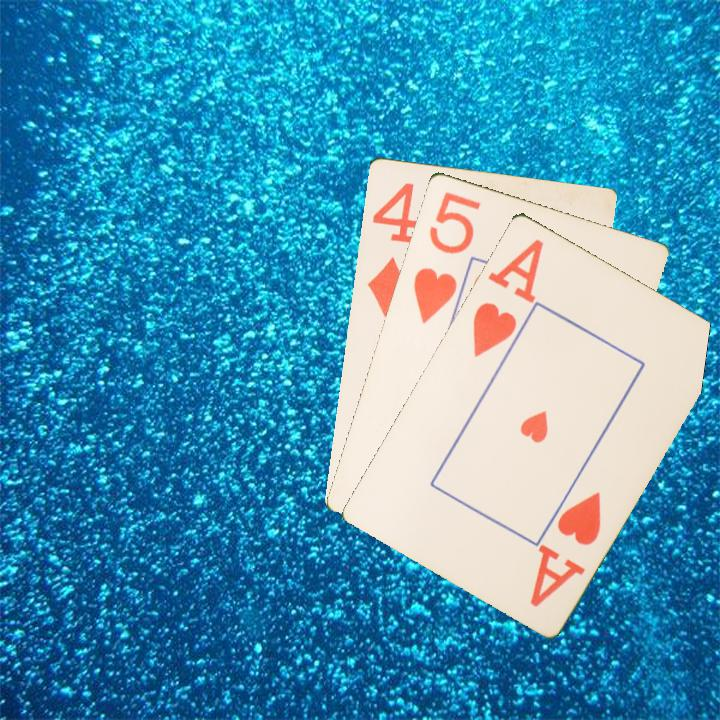4d: (363, 178, 420, 320)
5h: (409, 187, 484, 326)
Ah: (468, 235, 547, 360), (526, 487, 604, 610)
